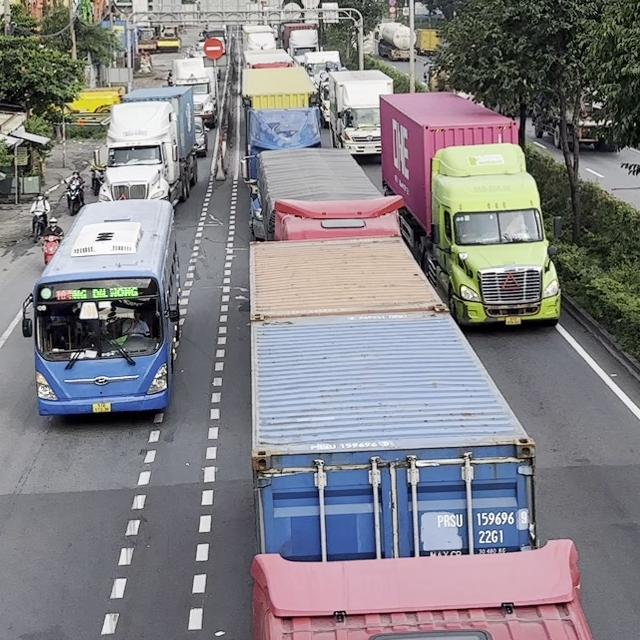bus: (21, 198, 180, 417)
motorcycle: (41, 216, 64, 265), (61, 175, 85, 215), (88, 161, 106, 196), (30, 209, 48, 242)
truck: (247, 235, 594, 639), (376, 92, 559, 328), (247, 146, 403, 241), (97, 85, 199, 207), (240, 66, 322, 183), (323, 68, 394, 157), (168, 56, 217, 127), (278, 21, 320, 59)
